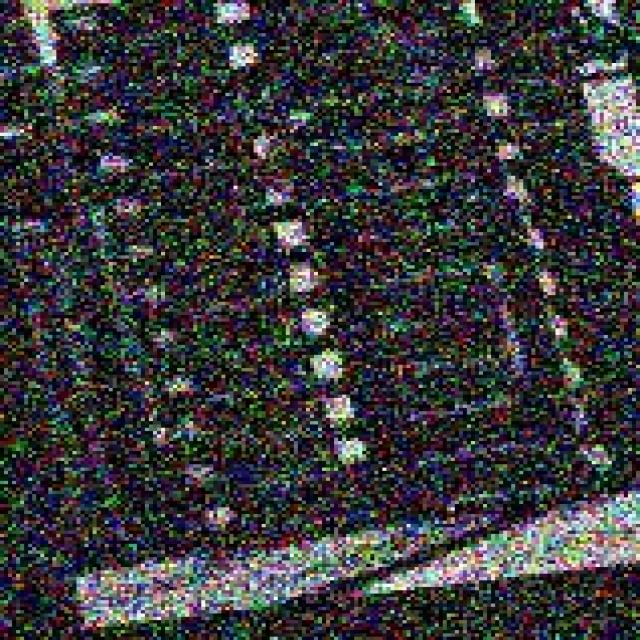igps: (82, 150, 585, 343), (68, 119, 550, 300), (128, 404, 640, 570), (115, 360, 640, 520), (102, 282, 628, 433), (62, 68, 524, 238), (113, 330, 640, 474), (79, 189, 580, 340), (64, 236, 594, 378), (45, 14, 512, 165), (43, 0, 480, 105), (32, 0, 350, 60)
